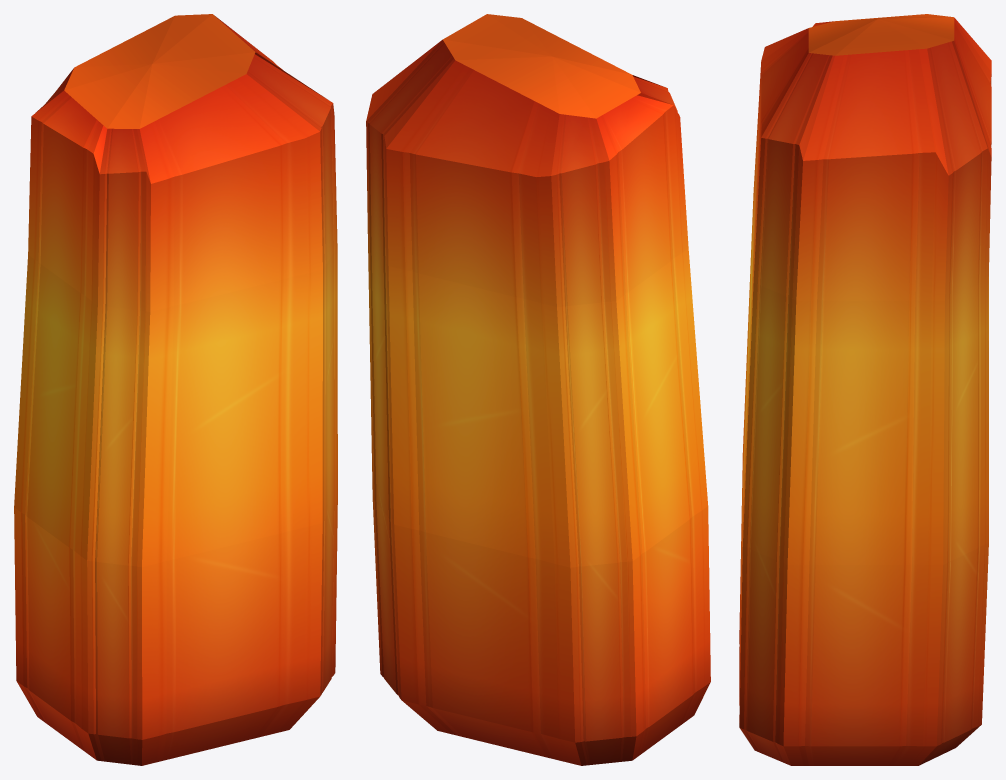
File: topazio_imperial.glb
The picture shows the model from 3 angles, left to right: view 1: azimuth 30°, elevation 25°; view 2: azimuth 150°, elevation 25°; view 3: azimuth 270°, elevation 25°; orthographic projection. The views are drawn at different scales.
Visible parts, largest first — view 1: Topazio_Imperial; view 2: Topazio_Imperial; view 3: Topazio_Imperial.
Part boxes in pixels (left/top/right/bottom): Topazio_Imperial: left=14, top=14, right=337, bottom=765; Topazio_Imperial: left=366, top=14, right=710, bottom=765; Topazio_Imperial: left=739, top=14, right=991, bottom=765.
Size of the model in its own units: 0.3017 by 0.7396 by 0.2402.
Materials: 1 (1 with a texture image).
